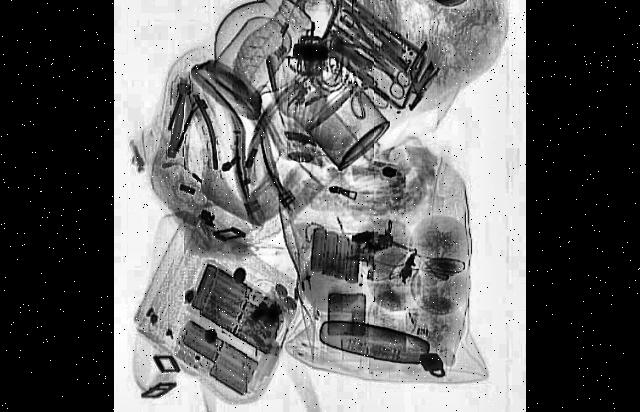Pliers: (334, 6, 391, 80)
Scissors: (368, 47, 409, 105)
